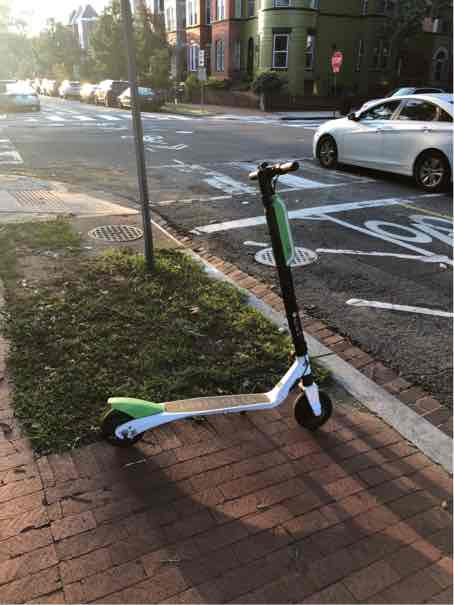scooter: (94, 143, 337, 447)
